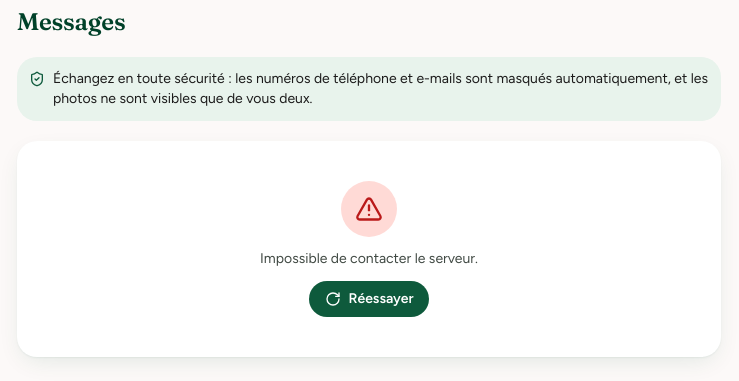
Test case: MessagesScreen › propose de réessayer en cas d’erreur
Click the button "Réessayer": (369, 299) [308,281,430,317]
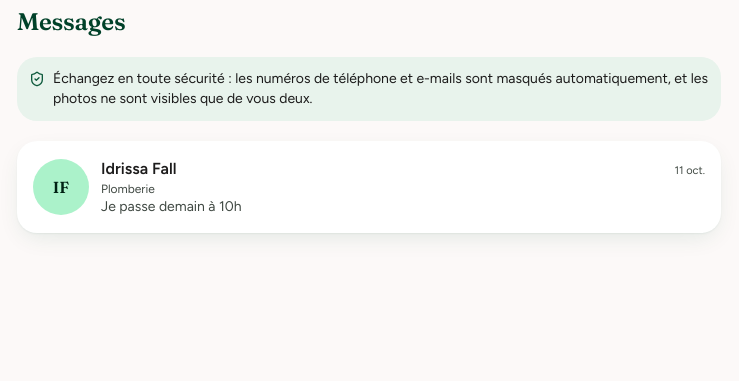
Expected: the link "IF Idrissa Fall 11 oct. Plomberie Je passe demain à 10h" is shown, [17,141,721,233]
